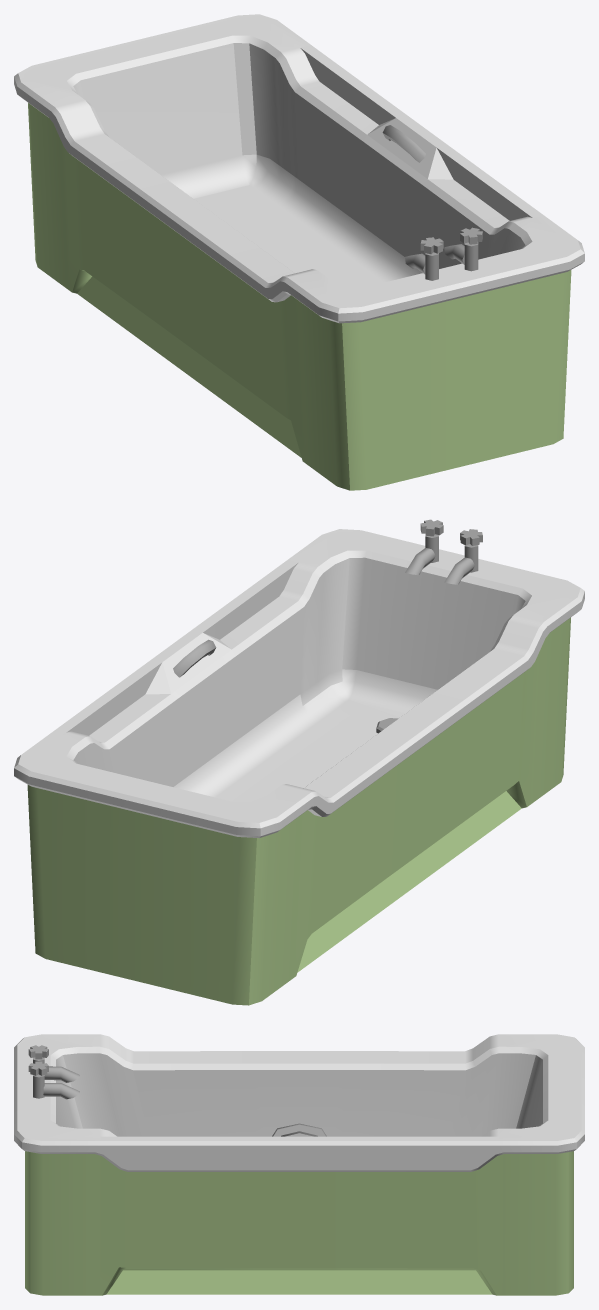
The model's file is bath_01.fbx.
3 renders of one model, top to bottom at view 1: azimuth 30°, elevation 25°; view 2: azimuth 150°, elevation 25°; view 3: azimuth 270°, elevation 25°, orthographic. The views are drawn at different scales.
Visible parts, largest first — view 1: polySurface182, polySurface173, polySurface183; view 2: polySurface182, polySurface173, polySurface183; view 3: polySurface173, polySurface182, polySurface183.
Boxes of the visible parts, x1,y1,x2,y2 form: polySurface182: (14,14,584,323); polySurface173: (28,103,571,490); polySurface183: (382,125,482,280); polySurface182: (14,529,584,838); polySurface173: (27,617,570,1005); polySurface183: (173,519,482,733); polySurface173: (25,1151,573,1295); polySurface182: (14,1034,584,1171); polySurface183: (28,1045,326,1136).
Bounding box in the file's own units: 6.71 × 5.46 × 14.76.
